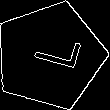L_W: (20, 34, 80, 78)
